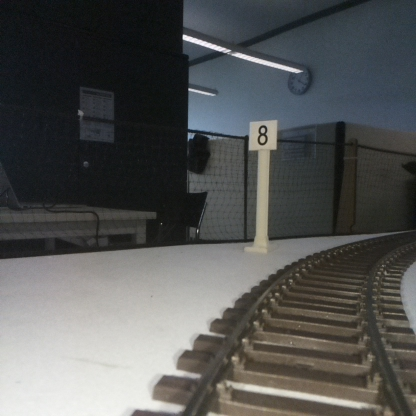white-info-8: (249, 120, 277, 254)
